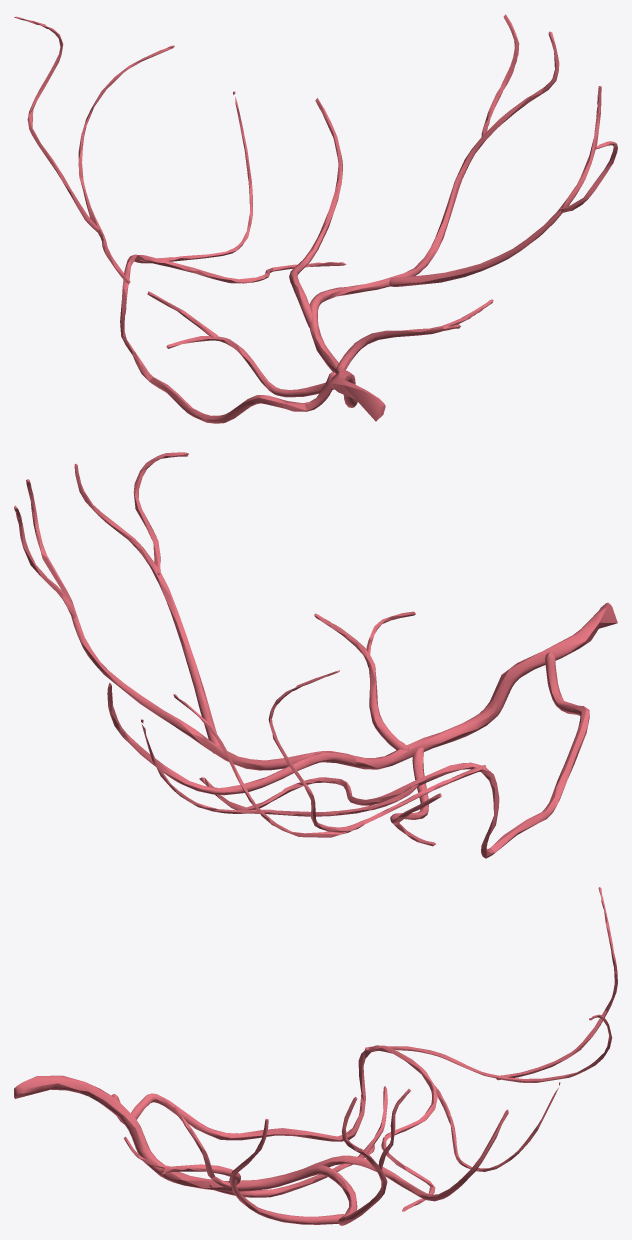
Rendered from fma50520_cx99.glb.
The picture shows the model from 3 angles, top to bottom: view 1: azimuth 30°, elevation 25°; view 2: azimuth 150°, elevation 25°; view 3: azimuth 270°, elevation 25°; orthographic projection. The views are drawn at different scales.
Visible parts, largest first — view 1: FMA50520_CX99; view 2: FMA50520_CX99; view 3: FMA50520_CX99.
Boxes of the visible parts, bbox=[...] form: FMA50520_CX99: bbox=[14, 14, 617, 423]; FMA50520_CX99: bbox=[14, 452, 617, 858]; FMA50520_CX99: bbox=[14, 887, 617, 1225].
Bounding box in the file's own units: 0.0481 × 0.0295 × 0.061.
